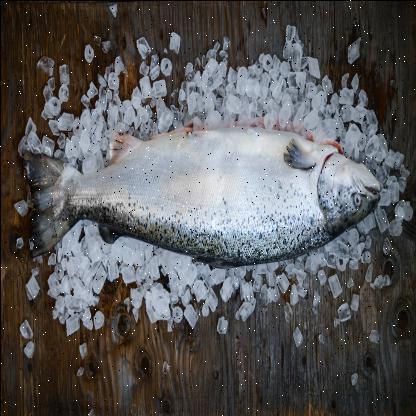fish: (23, 119, 380, 266)
